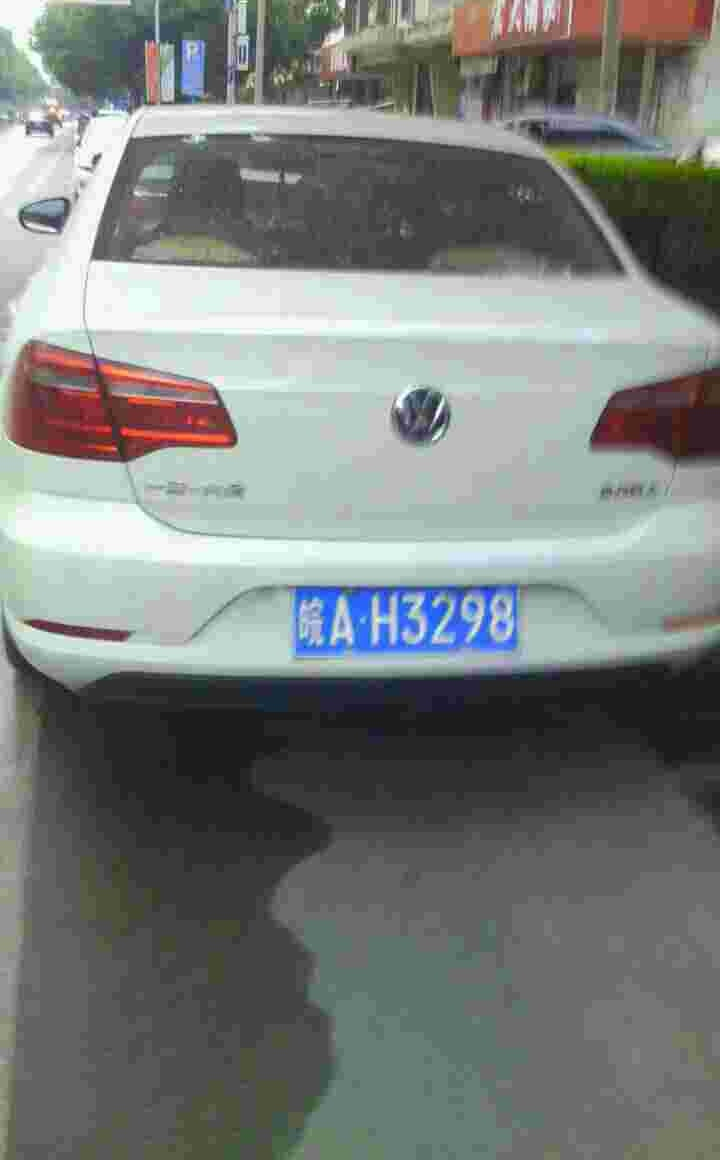plate: (295, 577, 527, 661)
